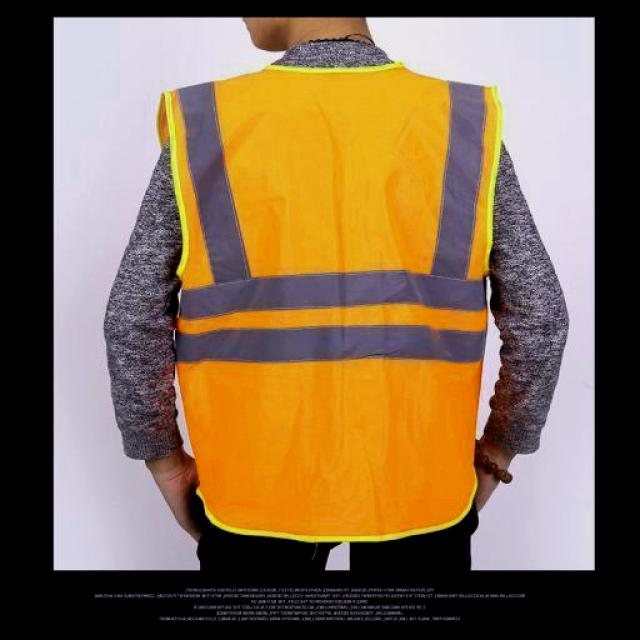vest: (159, 67, 499, 541)
